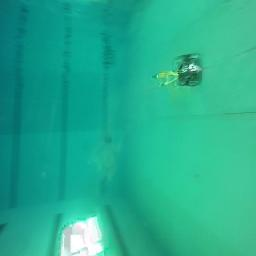Full: (102, 136, 112, 141)
front: (176, 62, 202, 87)
